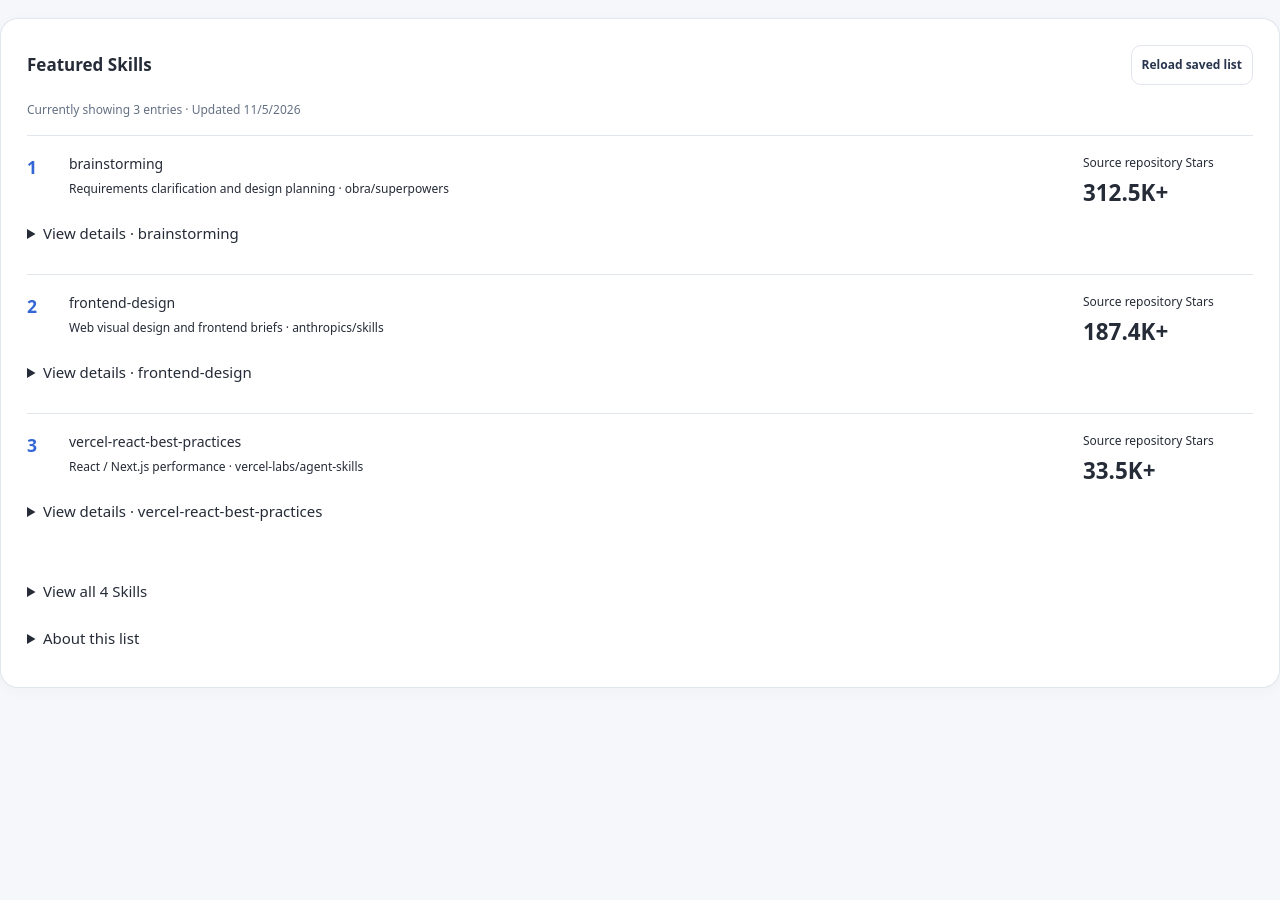
featured Skills disclosure › shows three entries and expands the rest without reloading the publication
Expected: the number of list items is 3, [27,135,1253,274]; [27,274,1253,413]; [27,413,1253,552]
Expected: the heading "Fourth candidate" is not shown
Click the heading "View all 4 Skills" at (95, 591), box [43,581,147,601]
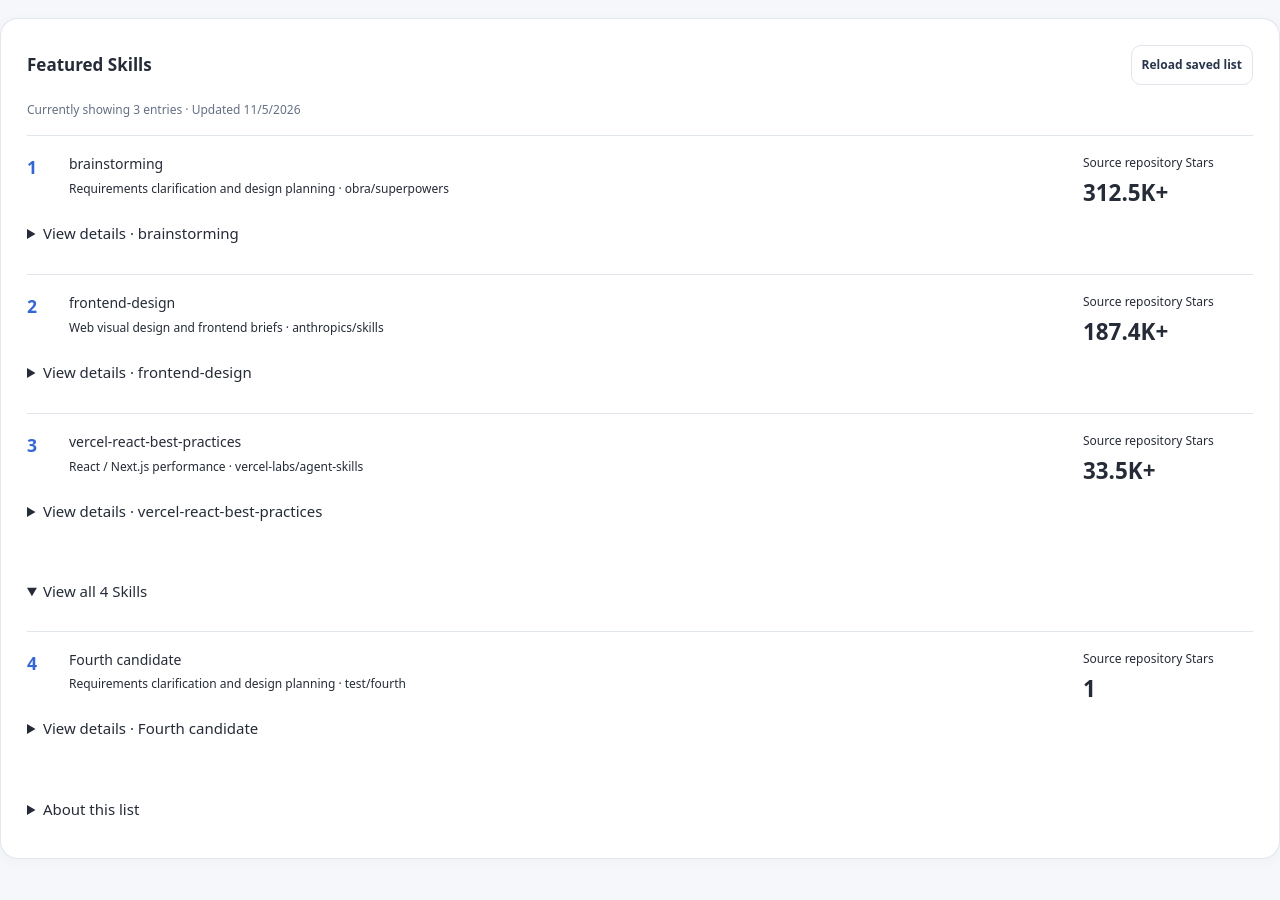
Now the heading "Fourth candidate" is shown, box [69,650,181,669]
Click the heading "View all 4 Skills" at (95, 591), box [43,581,147,601]
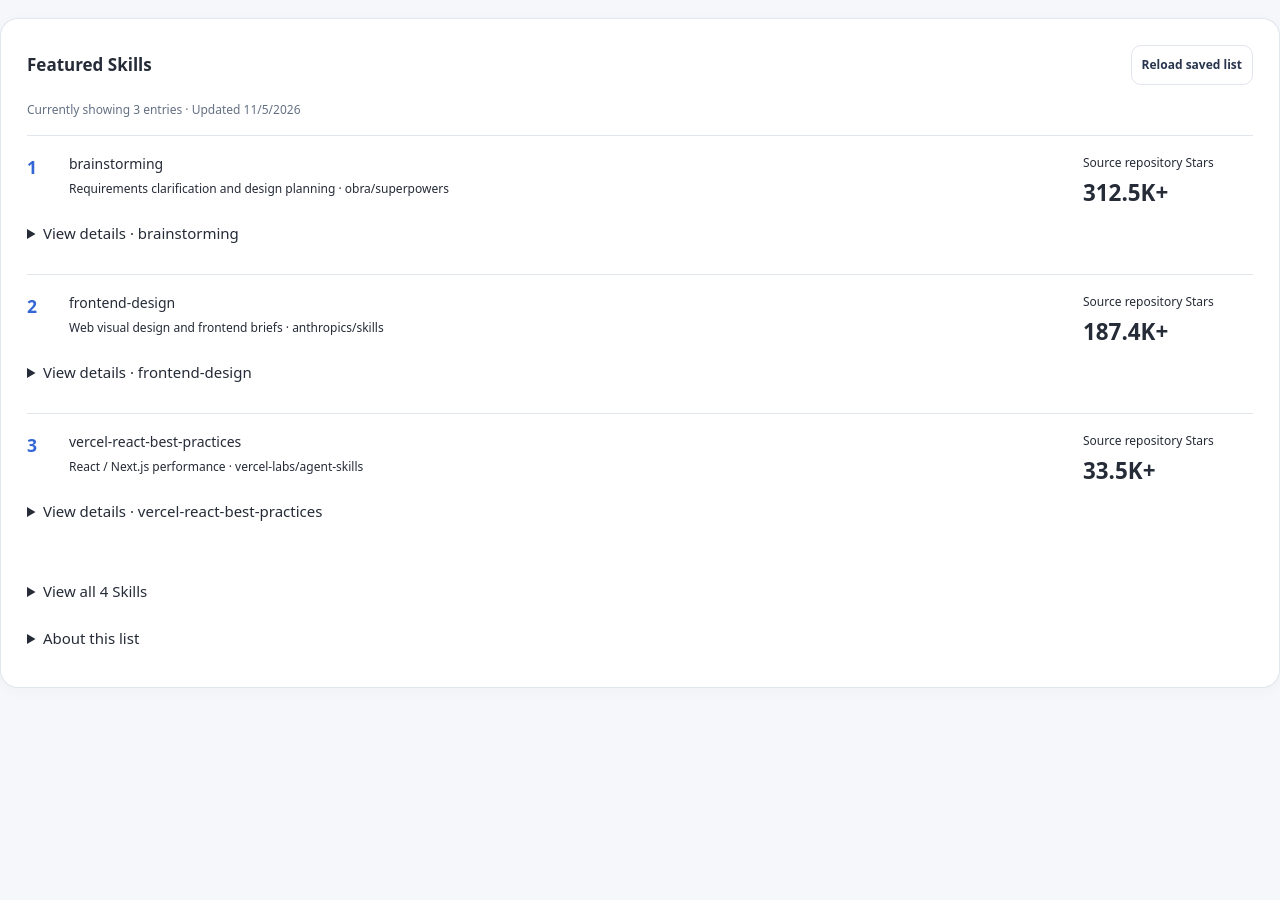
Now the heading "Fourth candidate" is gone
